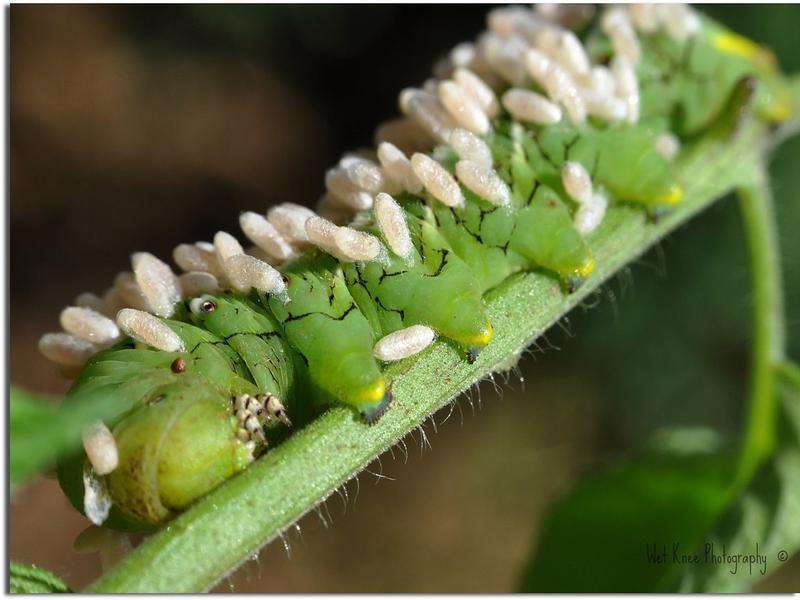Rice_horned_caterpillar: (50, 15, 777, 524)
